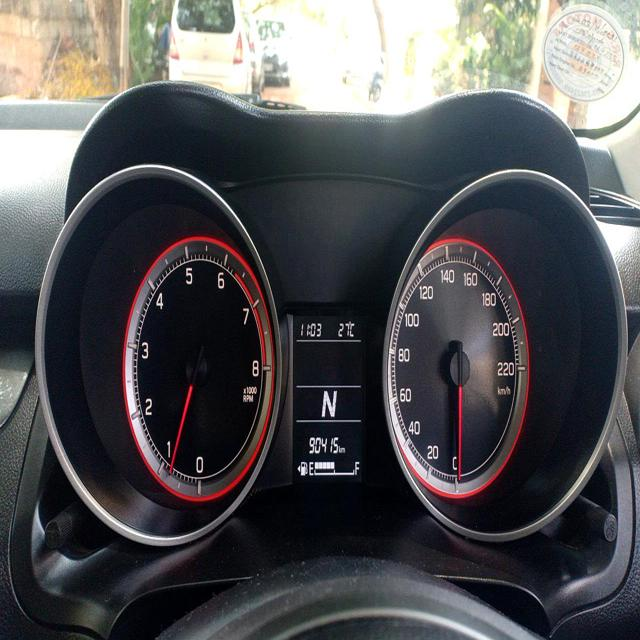odometer: (306, 432, 339, 454)
